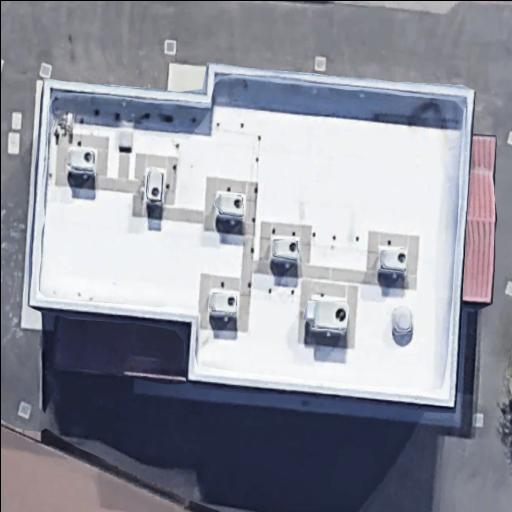Commercial-Flat-Roof: (30, 61, 473, 406)
